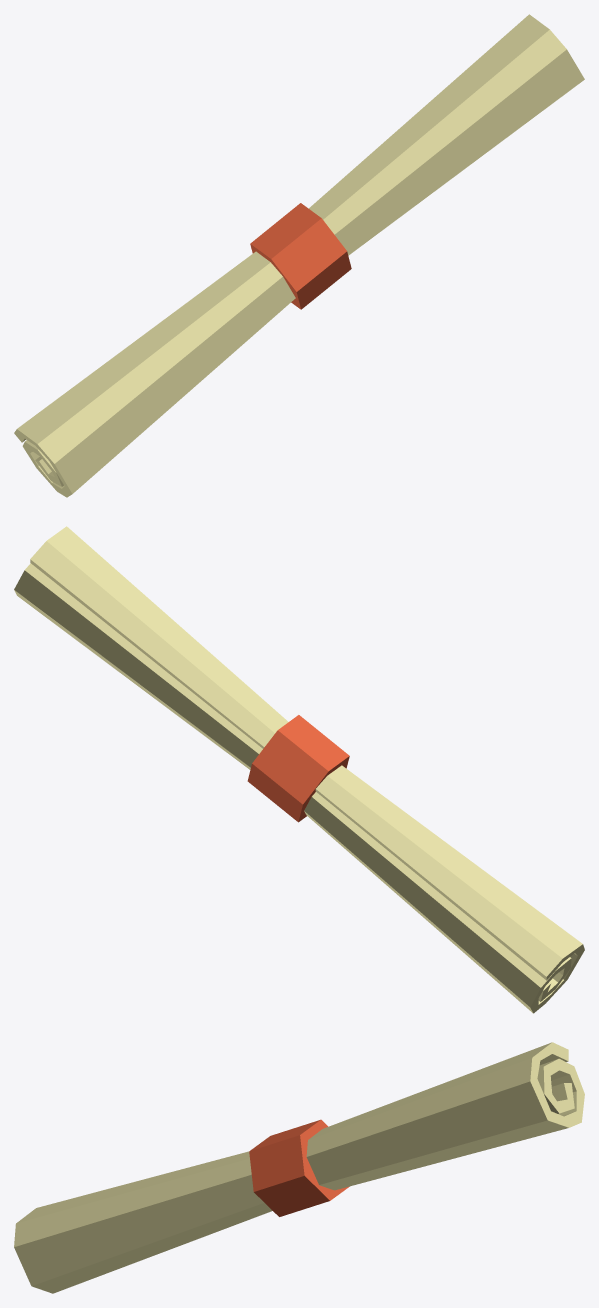
File: taking tegami.fbx
3 renders of one model, top to bottom at view 1: azimuth 30°, elevation 25°; view 2: azimuth 150°, elevation 25°; view 3: azimuth 330°, elevation 25°, orthographic.
Visible parts, largest first — view 1: 큐브.001, 실린더.003; view 2: 큐브.001, 실린더.003; view 3: 큐브.001, 실린더.003.
Boxes of the visible parts, x1,y1,x2,y2 form: 큐브.001: (14,14,584,497); 실린더.003: (250,203,351,309); 큐브.001: (14,526,584,1013); 실린더.003: (247,715,349,822); 큐브.001: (14,1042,584,1293); 실린더.003: (249,1119,349,1216).
Bounding box in the file's own units: 1.4 × 0.8704 × 0.1859.
